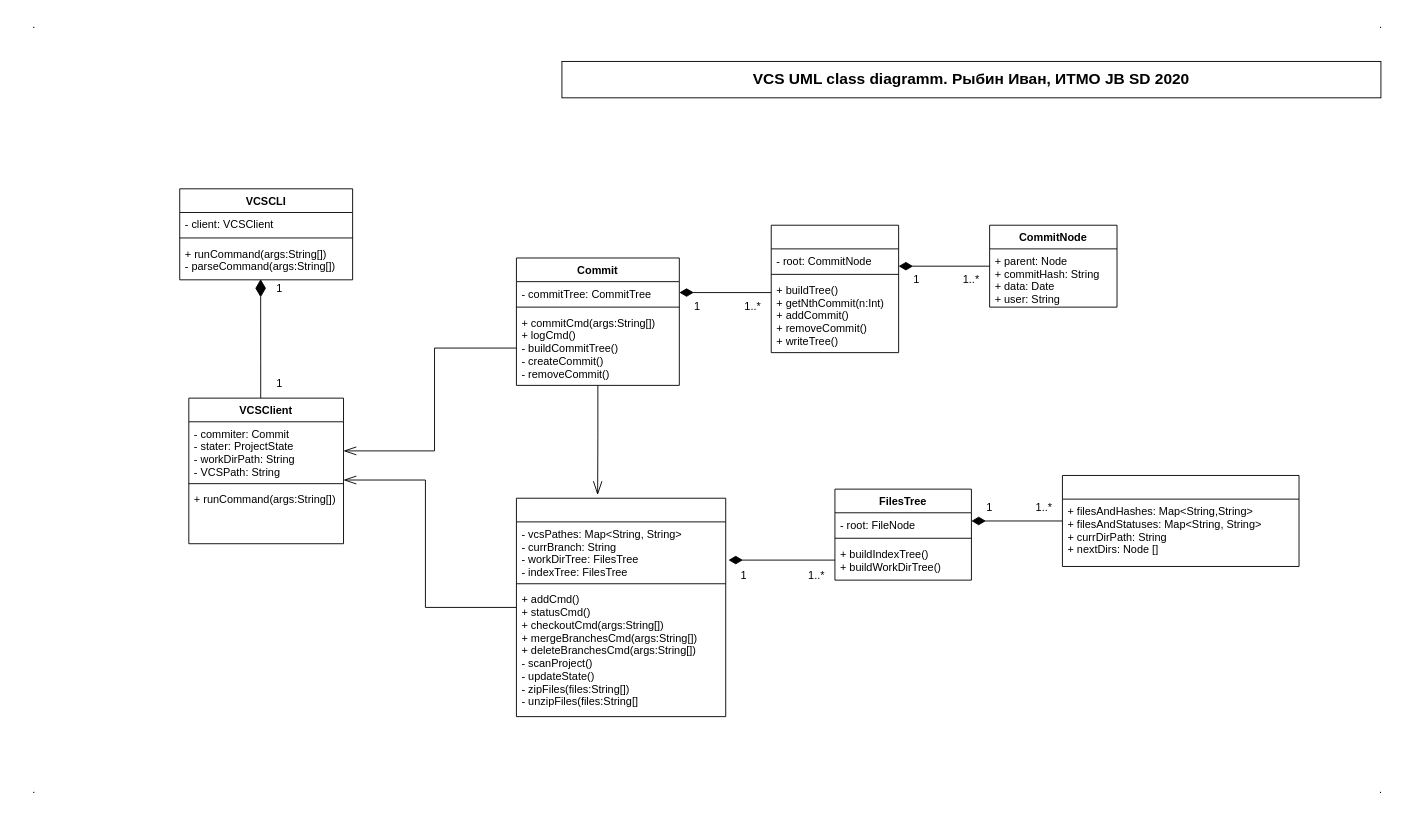
Image size: 1414x814. Some labels were removed from this diagram. Here are the shapes that lost their labels. From the top down, the box of each, then its label:
(770, 224, 899, 353): CommitTree
(1062, 475, 1299, 566): FileNode
(516, 497, 726, 717): ProjectState
